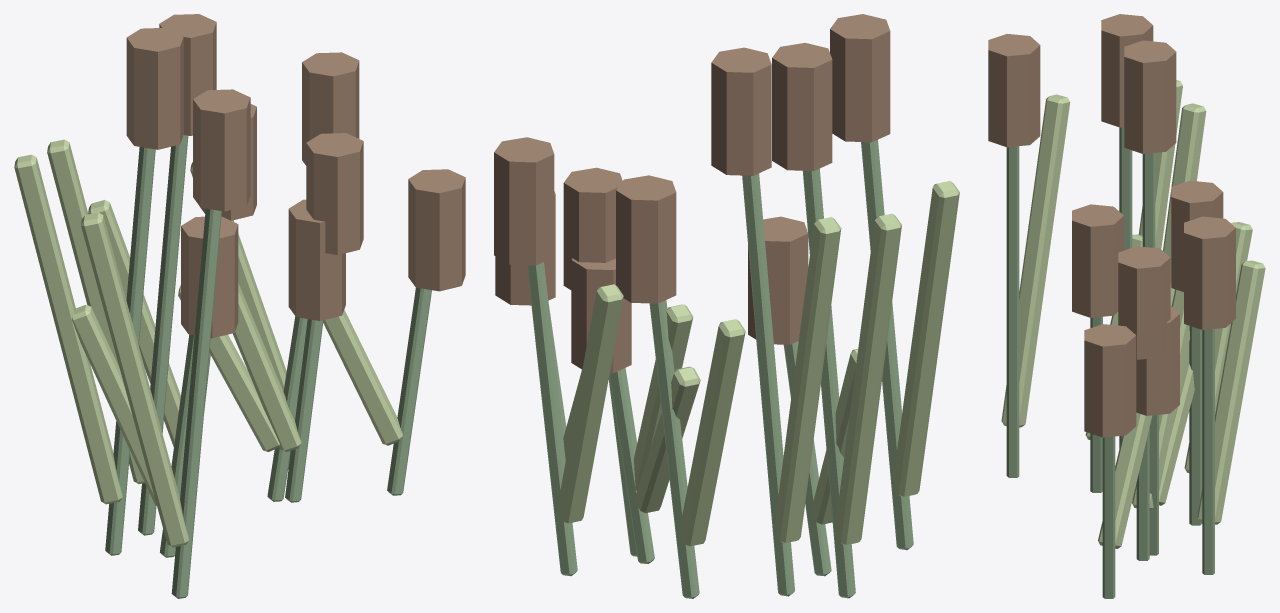
The model's file is reeds.fbx.
3 views of the same model, side by side, from view 1: azimuth 30°, elevation 25°; view 2: azimuth 150°, elevation 25°; view 3: azimuth 270°, elevation 25° (orthographic). The views are drawn at different scales.
Parts seen in each view (by area): view 1: reeds_mesh; view 2: reeds_mesh; view 3: reeds_mesh.
Part boxes in pixels (box(x1,y1,x2,y2)): reeds_mesh: box(14, 14, 465, 598); reeds_mesh: box(494, 14, 959, 598); reeds_mesh: box(988, 14, 1265, 598).
Size of the model in its own units: 0.9726 by 1.13 by 0.6073.
